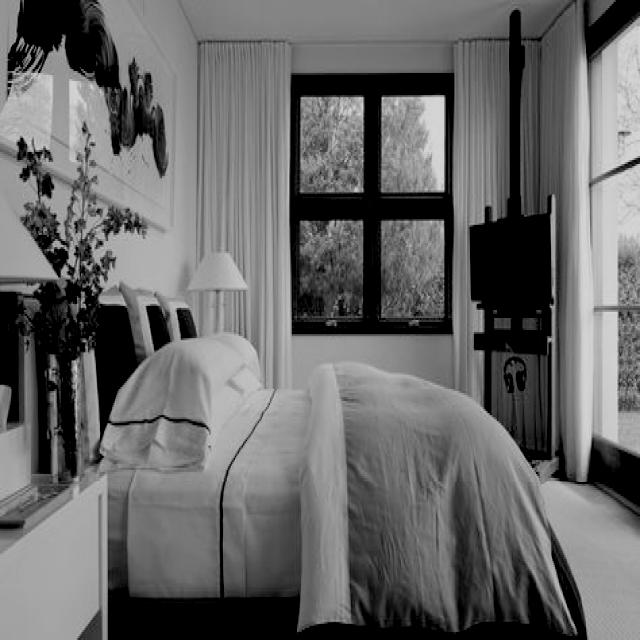bed: (106, 276, 540, 633)
